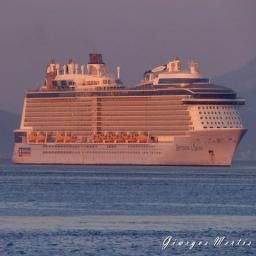cruises: (11, 52, 251, 169)
